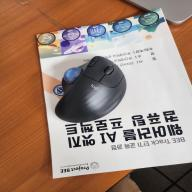Mouse: (54, 55, 127, 123)
